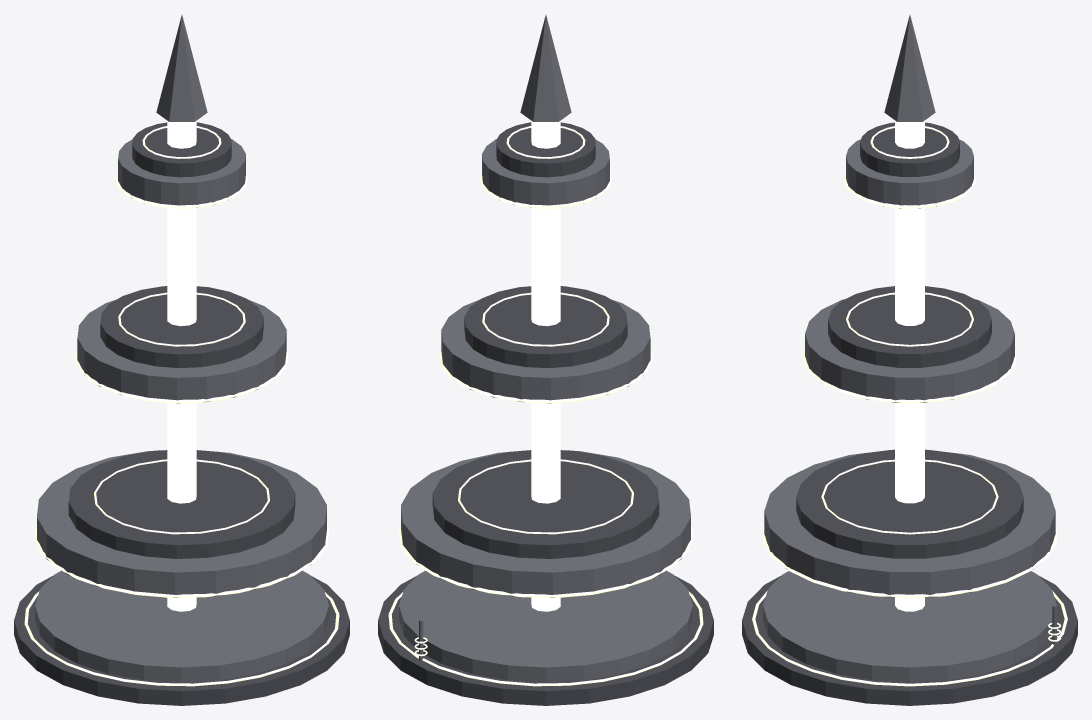
File: zone_high_2_t3.glb
The picture shows the model from 3 angles, left to right: view 1: azimuth 30°, elevation 25°; view 2: azimuth 150°, elevation 25°; view 3: azimuth 270°, elevation 25°; orthographic projection.
Visible parts, largest first — view 1: zone_high_2_t3, detail; view 2: zone_high_2_t3, detail; view 3: zone_high_2_t3, detail.
Part boxes in pixels (box(x1,y1,x2,y2)): zone_high_2_t3: box(14, 15, 349, 705); detail: box(94, 126, 269, 534); zone_high_2_t3: box(378, 15, 713, 705); detail: box(414, 126, 633, 661); zone_high_2_t3: box(742, 15, 1077, 705); detail: box(821, 126, 1061, 646).
Size of the model in its own units: 28.8 by 58.74 by 28.8.
